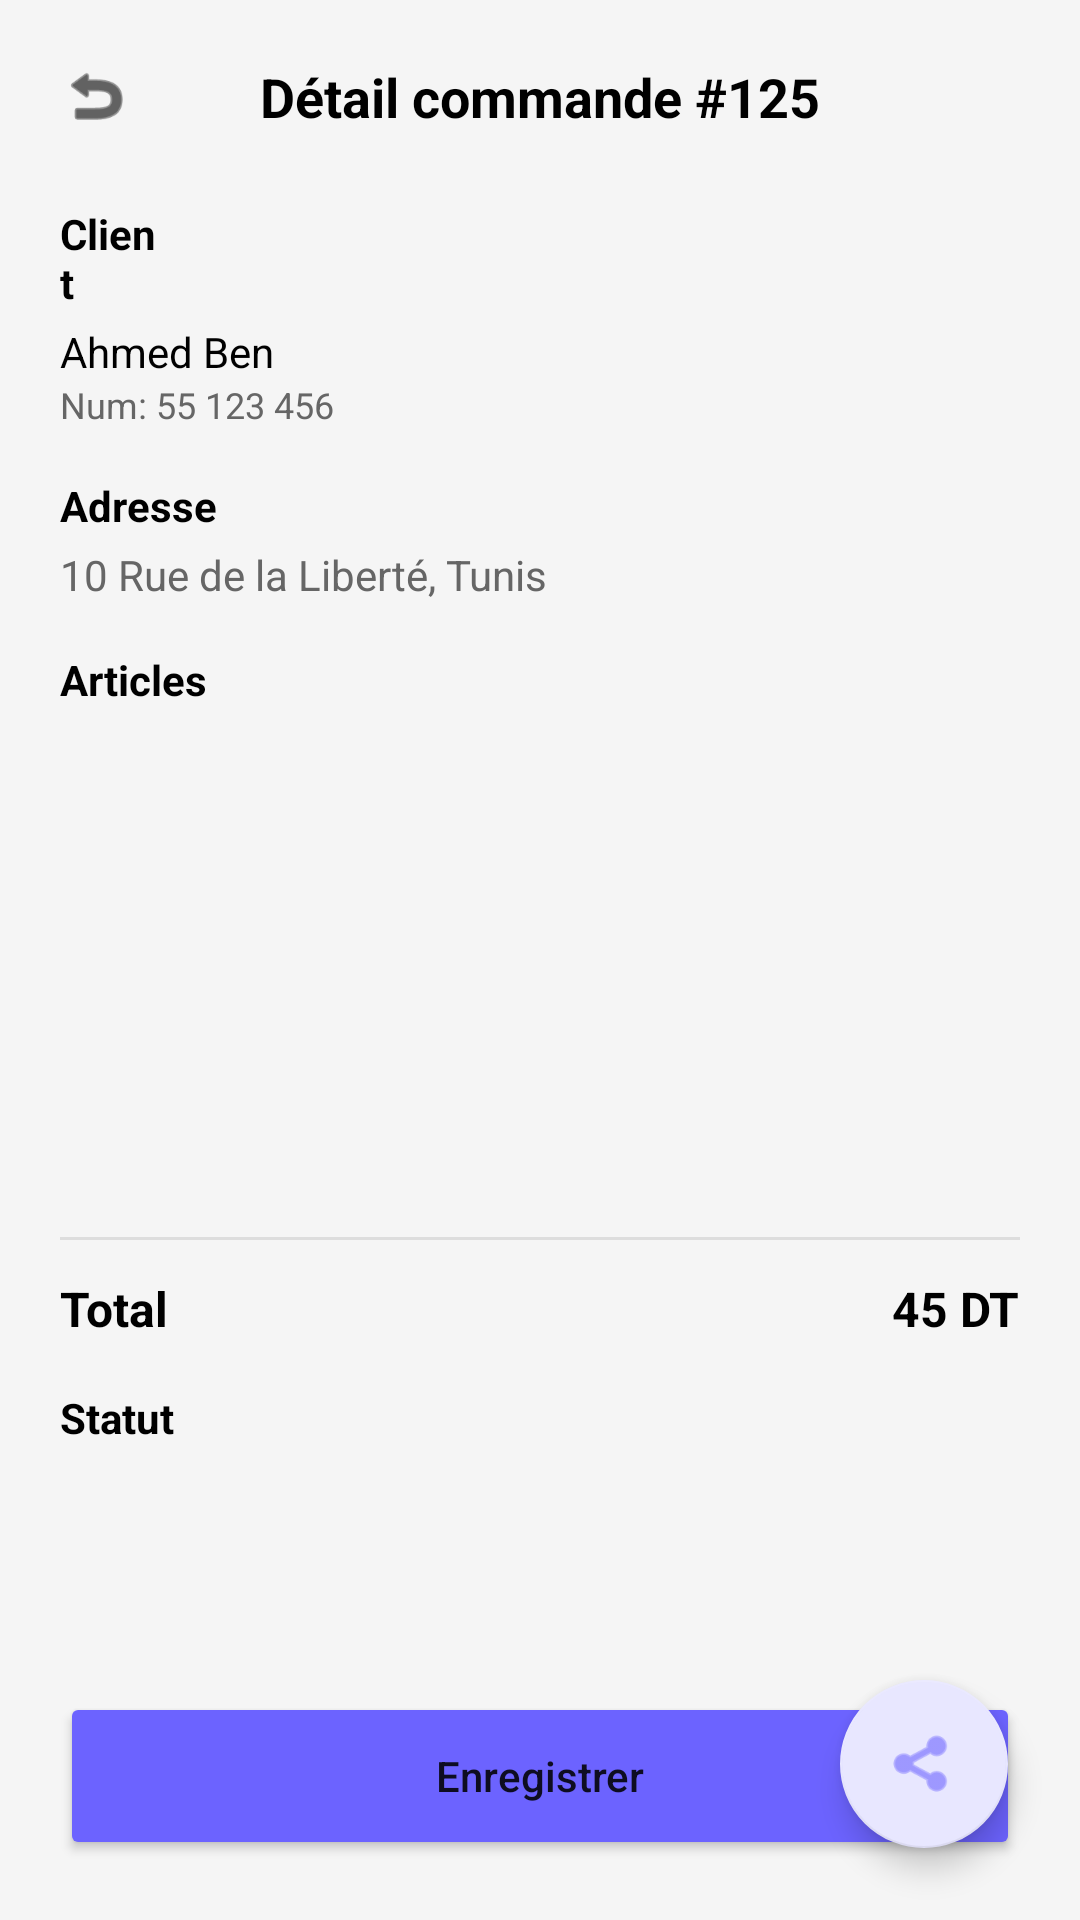

Point at icon controls on the screen. Image size 1080×1920, points as point (x, y).
revert: point (97, 96)
share: point (924, 1764)
